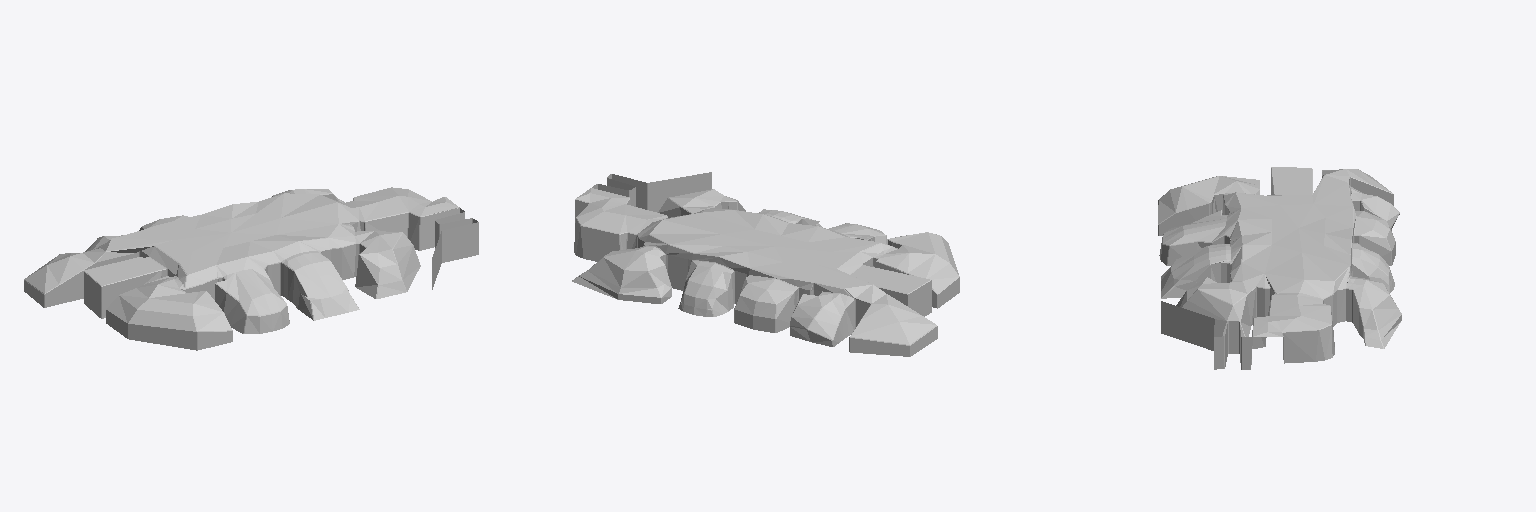
The model's file is sol.obj.
The picture shows the model from 3 angles: view 1: azimuth 30°, elevation 25°; view 2: azimuth 150°, elevation 25°; view 3: azimuth 270°, elevation 25°; orthographic projection.
Parts seen in each view (by area): view 1: Paredes_Plane.001; view 2: Paredes_Plane.001; view 3: Paredes_Plane.001.
Boxes of the visible parts, x1=… form: Paredes_Plane.001: x1=24, y1=187, x2=478, y2=350; Paredes_Plane.001: x1=572, y1=172, x2=959, y2=356; Paredes_Plane.001: x1=1158, y1=167, x2=1401, y2=369.
Bounding box in the file's own units: 36.51 × 4.12 × 20.23.